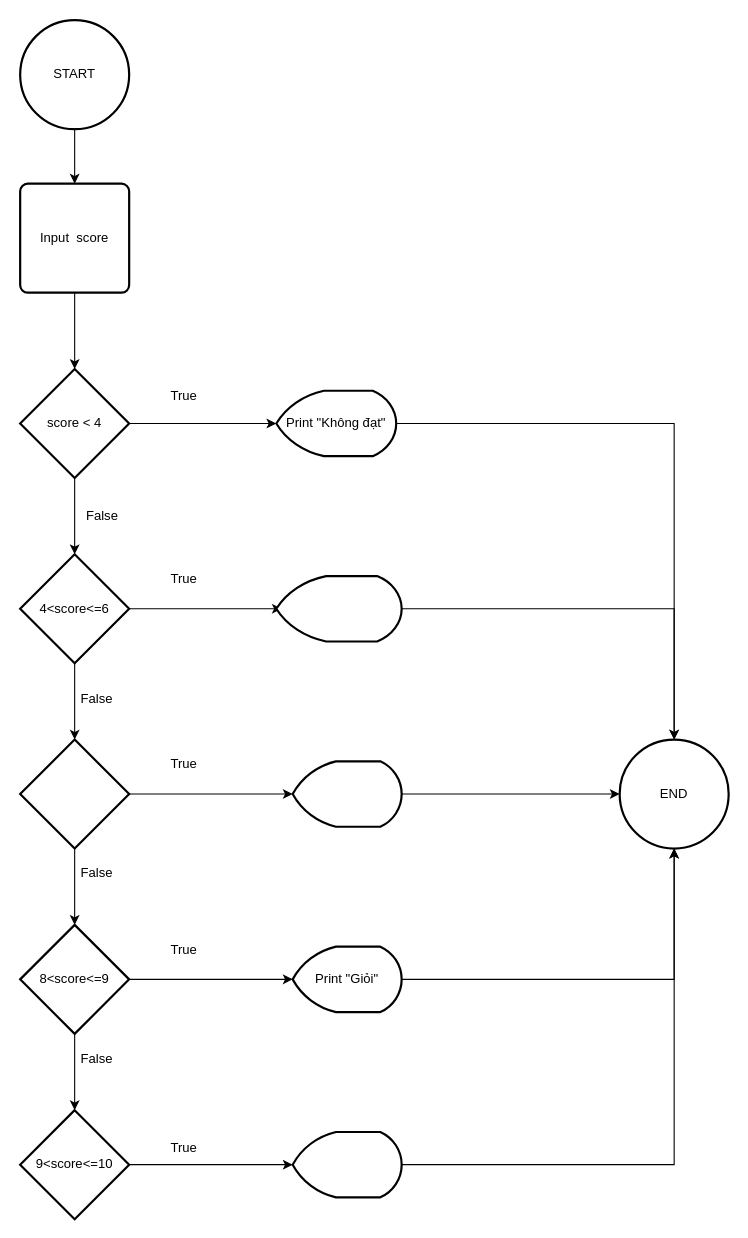
The diagram is 748 pixels wide and 1238 high, and some of its shapes have lost their labels. The centre of each missing label's shape, as x and y in pixels:
6<score<=8: the point at 74,793
Print " Trung bình": the point at 338,608
Print " Xuất sắc": the point at 346,1164
Print "Khá": the point at 346,793
